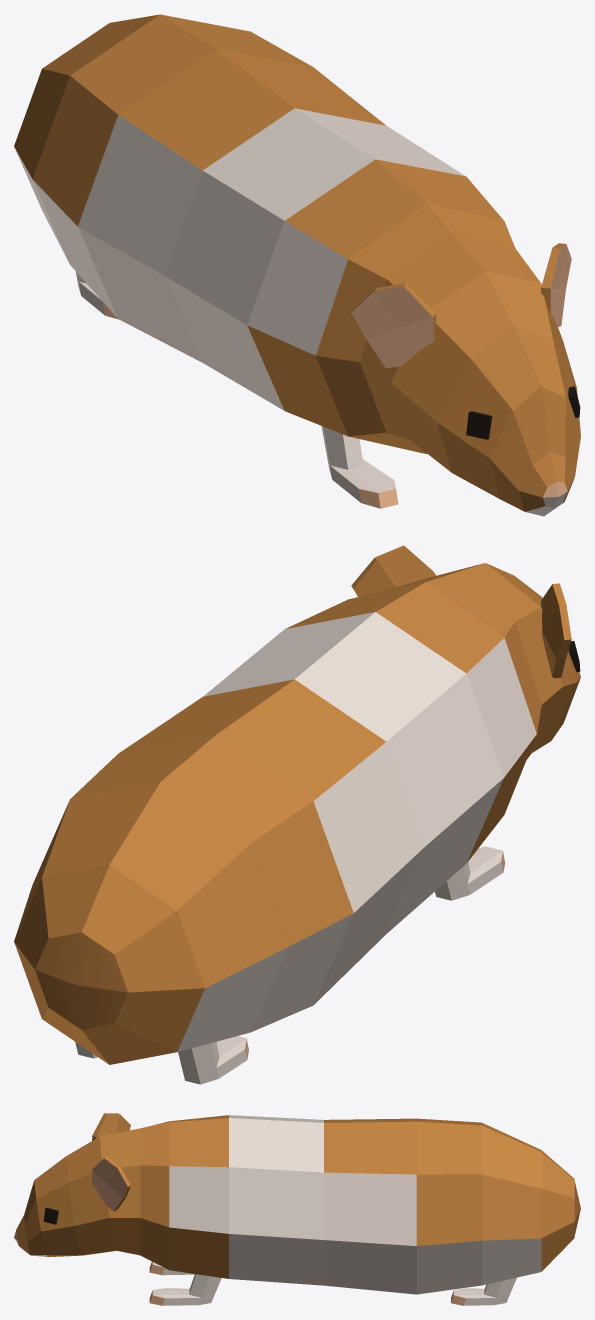
File: Mesh_Hamster.gltf
3 views of the same model, one above another, from view 1: azimuth 30°, elevation 25°; view 2: azimuth 150°, elevation 25°; view 3: azimuth 270°, elevation 25° (orthographic). The views are drawn at different scales.
Visible parts, largest first — view 1: node-0; view 2: node-0; view 3: node-0.
Part boxes in pixels (x1,y1,x2,y2): node-0: (14,14,580,516); node-0: (14,545,580,1084); node-0: (14,1113,580,1305).
Bounding box in the file's own units: 36.89 × 37.69 × 112.
1 material, 1 textured.
